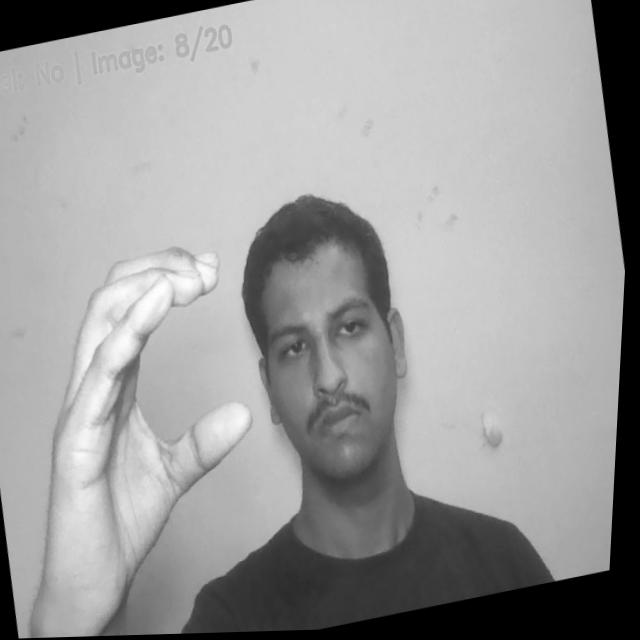No: (0, 236, 294, 635)
